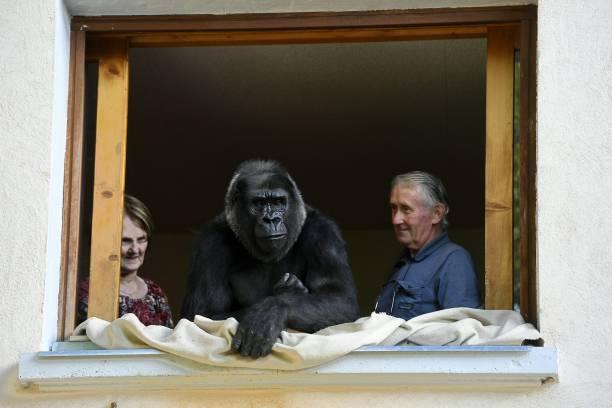gorille_Autres: (181, 156, 367, 345)
